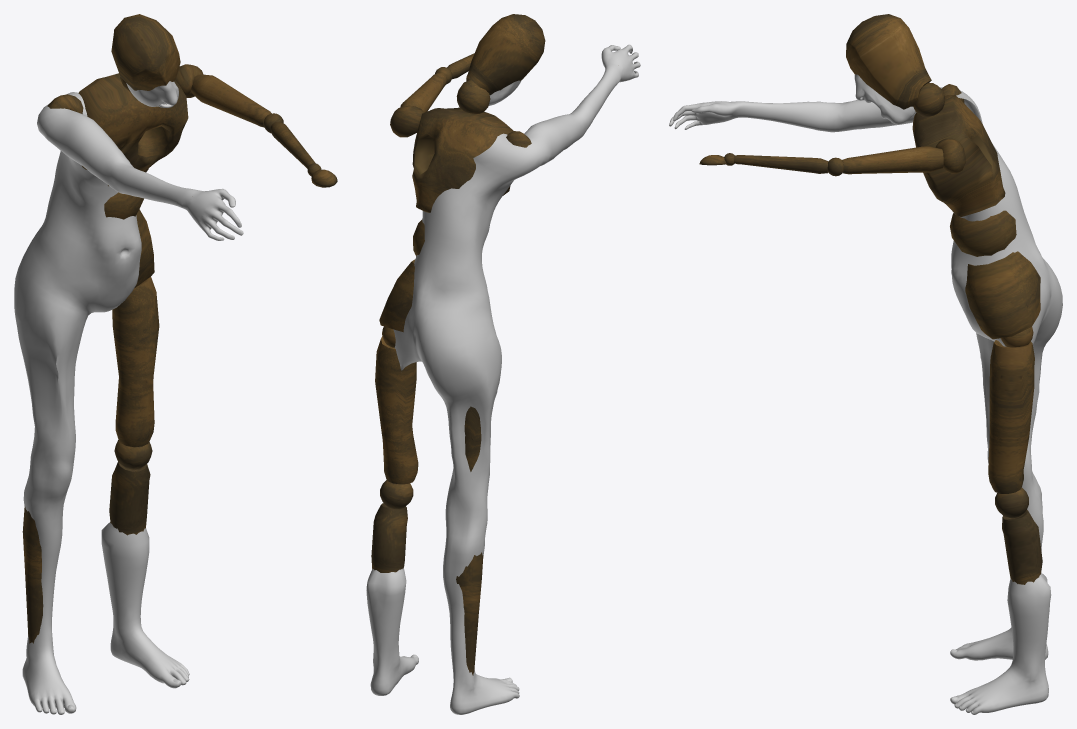
The model's file is Enemigo2_Pose1.fbx.
The picture shows the model from 3 angles, left to right: view 1: azimuth 30°, elevation 25°; view 2: azimuth 150°, elevation 25°; view 3: azimuth 270°, elevation 25°; orthographic projection. The views are drawn at different scales.
Visible parts, largest first — view 1: Body.002, dummy_obj.001; view 2: Body.002, dummy_obj.001; view 3: dummy_obj.001, Body.002.
Part boxes in pixels (box(x1,y1,x2,y2)): Body.002: box(14, 81, 243, 714); dummy_obj.001: box(22, 14, 337, 643); Body.002: box(366, 44, 640, 714); dummy_obj.001: box(371, 14, 545, 675); dummy_obj.001: box(699, 14, 1042, 584); Body.002: box(669, 74, 1062, 714).
Size of the model in its own units: 44.91 by 170 by 92.46.
